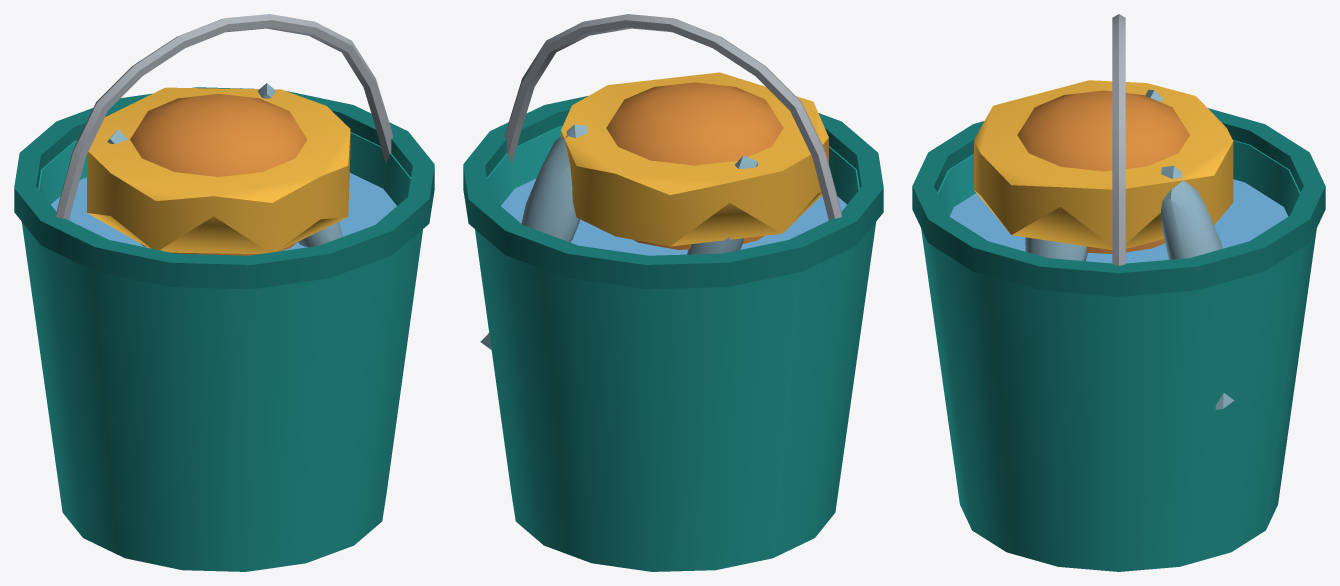
Rendered from CuboMerienda.fbx.
The picture shows the model from 3 angles, left to right: view 1: azimuth 30°, elevation 25°; view 2: azimuth 150°, elevation 25°; view 3: azimuth 270°, elevation 25°; orthographic projection. The views are drawn at different scales.
Visible parts, largest first — view 1: CuboMerienda; view 2: CuboMerienda; view 3: CuboMerienda.
Part boxes in pixels (x1=…): CuboMerienda: x1=14, y1=14, x2=434, y2=571; CuboMerienda: x1=463, y1=14, x2=883, y2=571; CuboMerienda: x1=912, y1=14, x2=1325, y2=571.
Size of the model in its own units: 1.35 by 1.71 by 1.35.
Materials: 1 (1 with a texture image).
